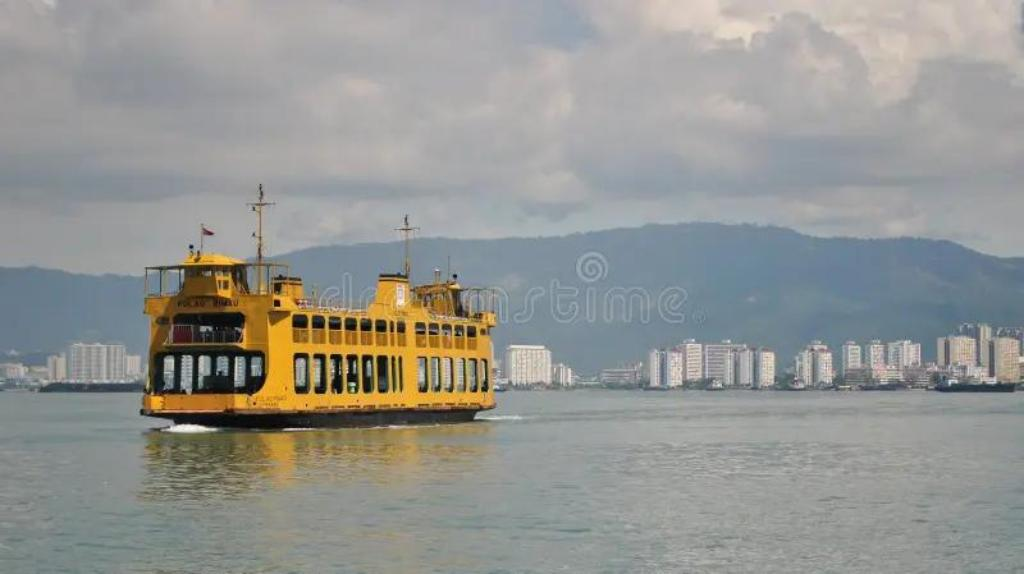PassengerShip: (128, 223, 508, 437)
